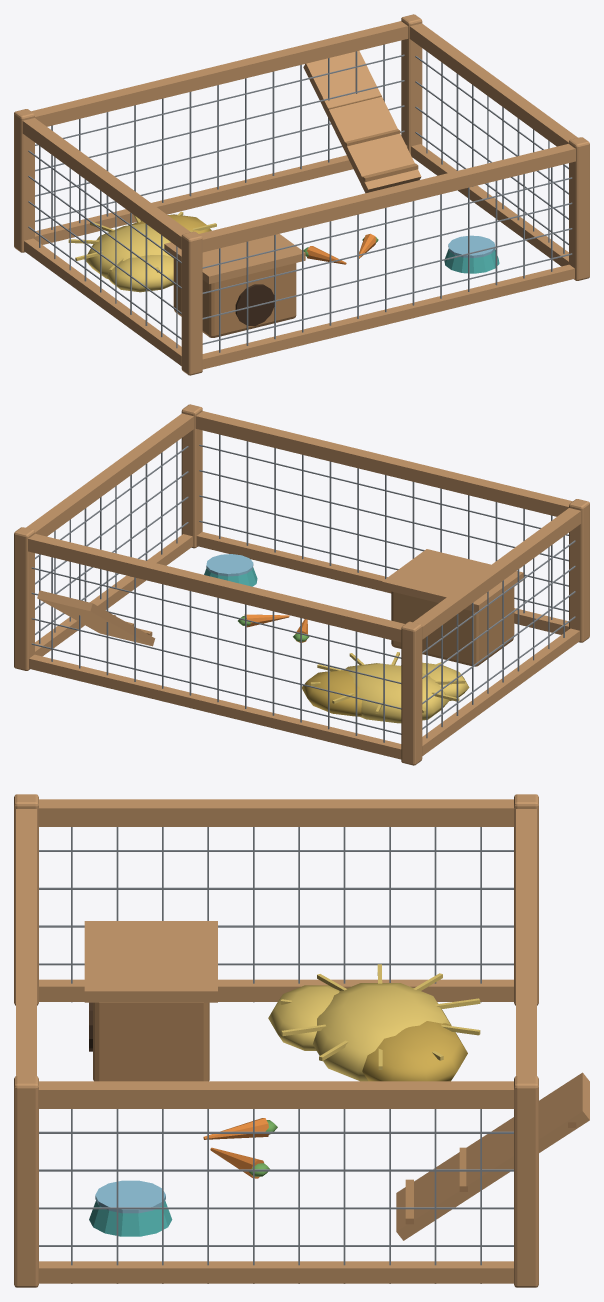
Rendered from rabbit-run.glb.
The picture shows the model from 3 angles, top to bottom: view 1: azimuth 30°, elevation 25°; view 2: azimuth 150°, elevation 25°; view 3: azimuth 270°, elevation 25°; orthographic projection. The views are drawn at different scales.
Visible parts, largest first — view 1: RabbitRun_run_wood, RabbitRun_wire, RabbitRun_hide_box, RabbitRun_hay, RabbitRun_hide_hole, RabbitRun_bowl, RabbitRun_water, RabbitRun_carrot; view 2: RabbitRun_run_wood, RabbitRun_wire, RabbitRun_hide_box, RabbitRun_hay, RabbitRun_hay2, RabbitRun_water; view 3: RabbitRun_run_wood, RabbitRun_wire, RabbitRun_hay, RabbitRun_hide_box, RabbitRun_hay2, RabbitRun_bowl, RabbitRun_water, RabbitRun_carrot.
Part boxes in pixels (x1,y1,x2,y2): RabbitRun_run_wood: (14, 14, 589, 375); RabbitRun_wire: (28, 44, 572, 352); RabbitRun_hide_box: (173, 95, 418, 337); RabbitRun_hay: (68, 211, 216, 292); RabbitRun_hide_hole: (235, 284, 274, 325); RabbitRun_bowl: (444, 249, 499, 273); RabbitRun_water: (448, 235, 495, 257); RabbitRun_carrot: (306, 233, 376, 264); RabbitRun_run_wood: (14, 404, 589, 765); RabbitRun_wire: (31, 434, 575, 742); RabbitRun_hide_box: (114, 587, 514, 666); RabbitRun_hay: (310, 652, 469, 723); RabbitRun_hay2: (302, 670, 361, 716); RabbitRun_water: (206, 554, 253, 576); RabbitRun_run_wood: (14, 794, 589, 1287); RabbitRun_wire: (39, 827, 513, 1283); RabbitRun_hay: (268, 964, 480, 1081); RabbitRun_hide_box: (93, 1002, 576, 1224); RabbitRun_hay2: (362, 1021, 467, 1081); RabbitRun_bowl: (89, 1201, 172, 1236); RabbitRun_water: (95, 1180, 165, 1213); RabbitRun_carrot: (203, 1118, 268, 1178).
Bounding box in the file's own units: 1.66 × 0.561 × 1.38.
